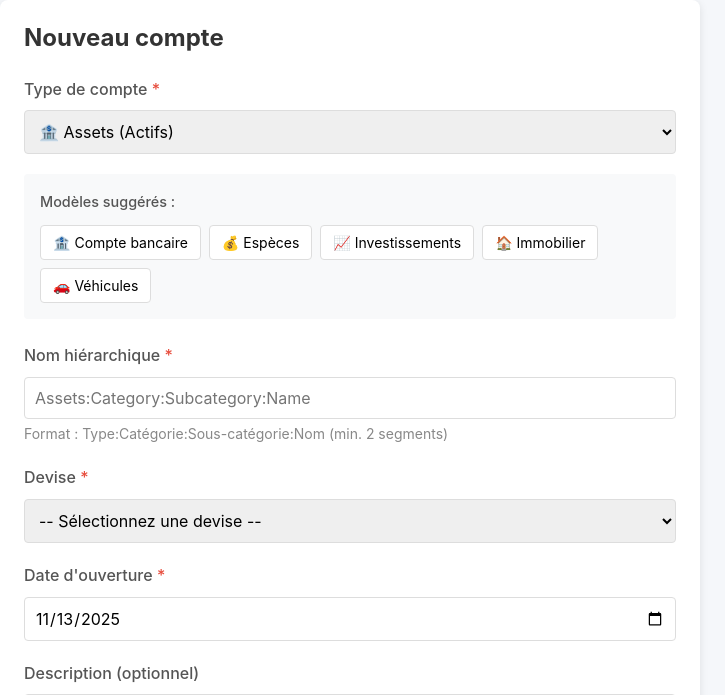
it: AccountForm - Mode Ajout › devrait visualiser les segments du nom hiérarchique
This screenshot has width=725, height=695.
Type "Assets:Bank:EUR:PostFinance" into the field labelled "Nom hiérarchique *" at (350, 398), box [24, 377, 676, 419]
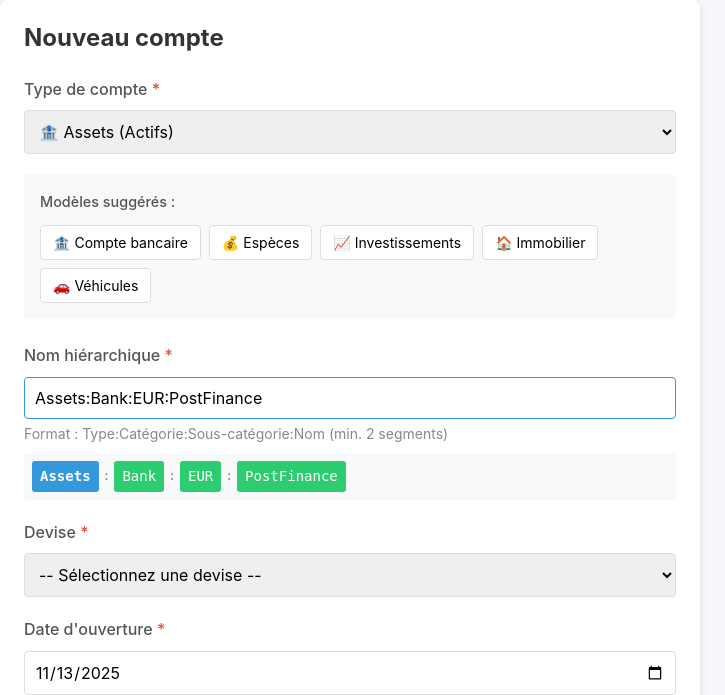
Result: the text "Assets" is shown at [32, 461, 99, 492]
Result: the text "Bank" is shown at [114, 461, 164, 492]
Result: the text "EUR" is shown at [180, 461, 221, 492]
